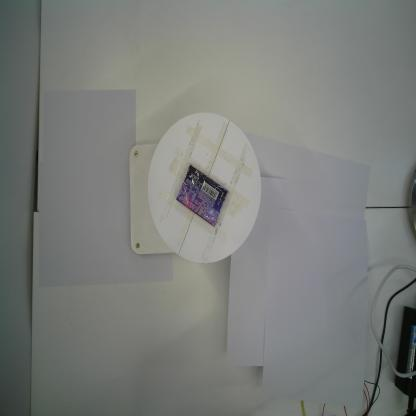Gum: (175, 162, 229, 228)
